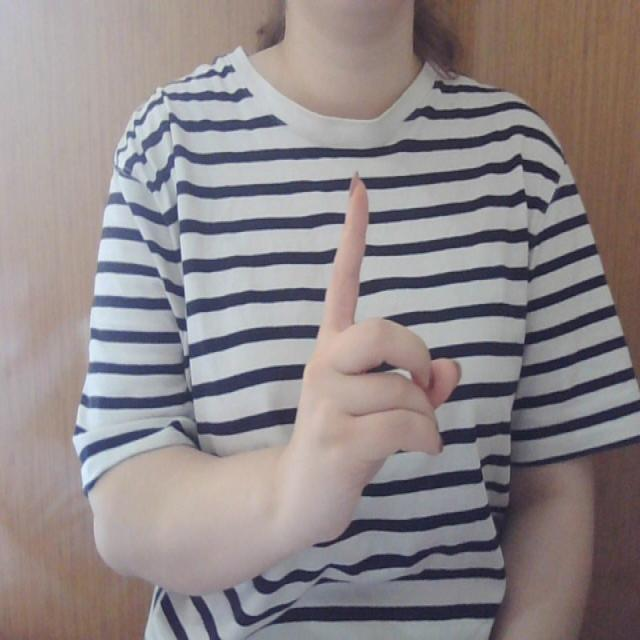Hayir: (288, 159, 468, 572)
